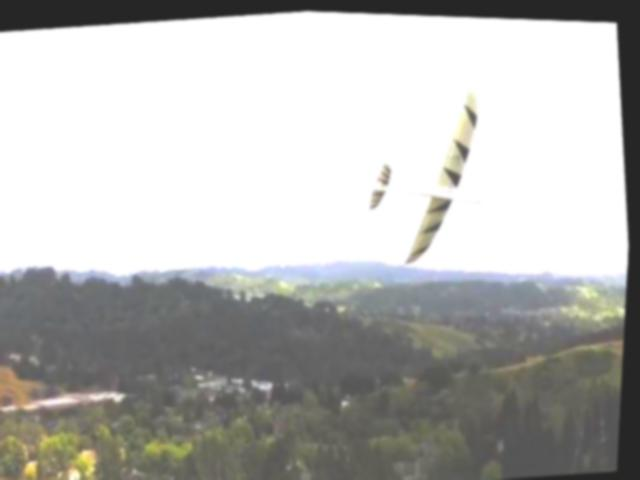iha: (354, 73, 514, 268)
